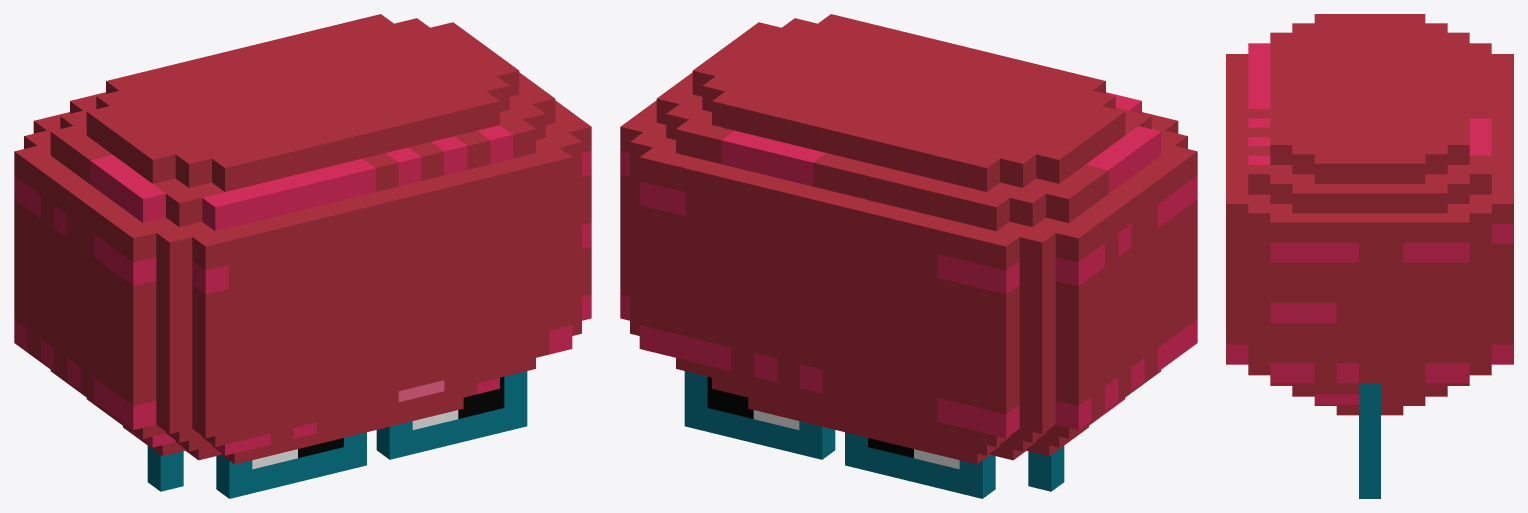
The model's file is beet.glb.
3 views of the same model, side by side, from view 1: azimuth 30°, elevation 25°; view 2: azimuth 150°, elevation 25°; view 3: azimuth 270°, elevation 25° (orthographic). The views are drawn at different scales.
Parts seen in each view (by area): view 1: base, glasses, layer-2; view 2: base, glasses, layer-2; view 3: base, glasses.
Boxes of the visible parts, <box> form: base: <box>14,14,591,464</box>; glasses: <box>147,371,527,498</box>; layer-2: <box>252,376,504,469</box>; base: <box>620,14,1197,464</box>; glasses: <box>684,371,1064,498</box>; layer-2: <box>707,376,959,469</box>; base: <box>1226,14,1513,415</box>; glasses: <box>1359,383,1380,498</box>.
Size of the model in its own units: 20 by 16 by 13.
16 materials, 16 textured.
